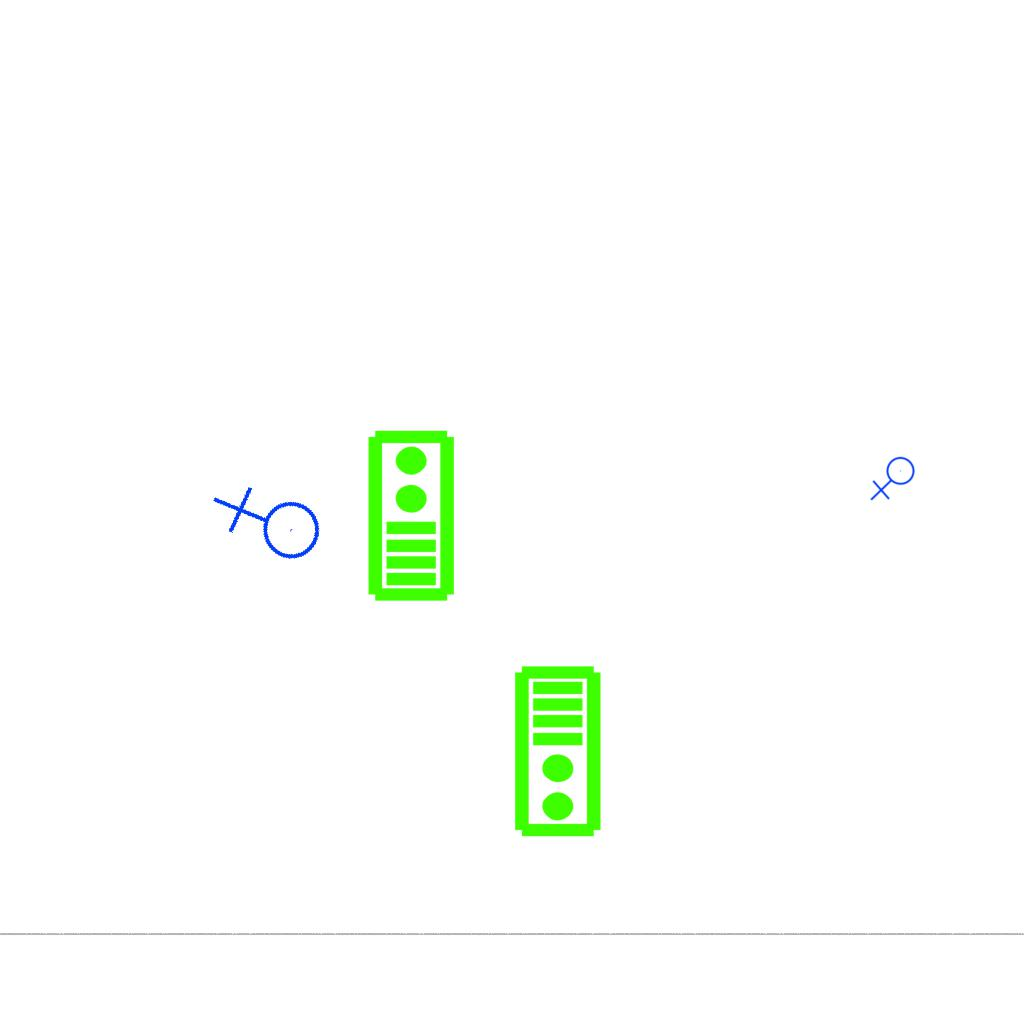Elektroanschluss_allgemein_230V_Geraeteanschlussdose_230V: (207, 461, 334, 591), (870, 456, 919, 503)
Gegensprechanlage_mit_Video: (512, 664, 607, 840), (362, 427, 457, 603)
